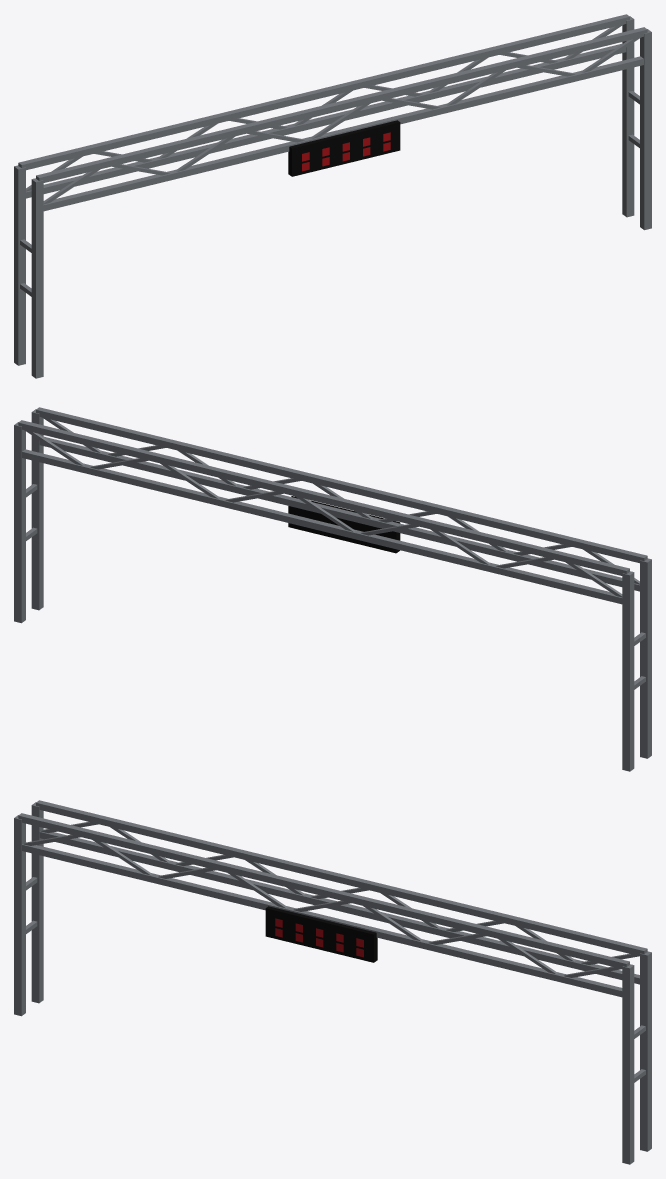
Rendered from start_gantry.glb.
3 views of the same model, one above another, from view 1: azimuth 30°, elevation 25°; view 2: azimuth 150°, elevation 25°; view 3: azimuth 330°, elevation 25° (orthographic).
Parts seen in each view (by area): view 1: chunk_0_0; view 2: chunk_0_0; view 3: chunk_0_0.
Part boxes in pixels (left/top/right/bottom): chunk_0_0: left=14, top=14, right=651, bottom=378; chunk_0_0: left=14, top=407, right=651, bottom=771; chunk_0_0: left=14, top=800, right=651, bottom=1164.
Bounding box in the file's own units: 36.45 × 11.27 × 2.5.
